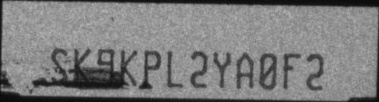0: (258, 50, 276, 89)
2: (188, 49, 206, 88), (305, 52, 323, 90)
9: (96, 47, 115, 87)
A: (235, 50, 255, 90)
F: (281, 51, 301, 90)
K: (73, 45, 91, 86), (120, 47, 137, 86)
L: (166, 50, 183, 87)
P: (142, 49, 162, 88)
S: (49, 47, 68, 84)
Y: (212, 50, 232, 87)
